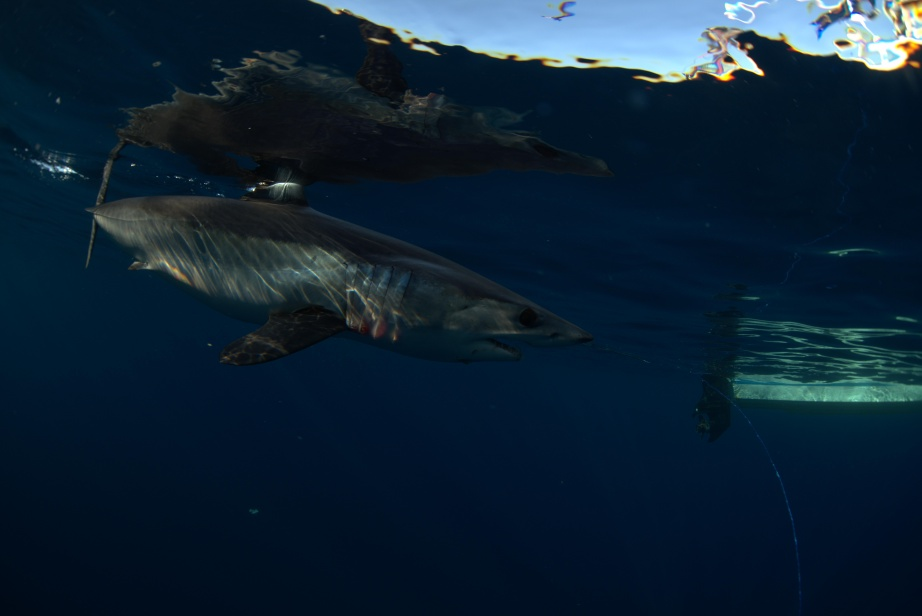Mako: (75, 148, 606, 406)
